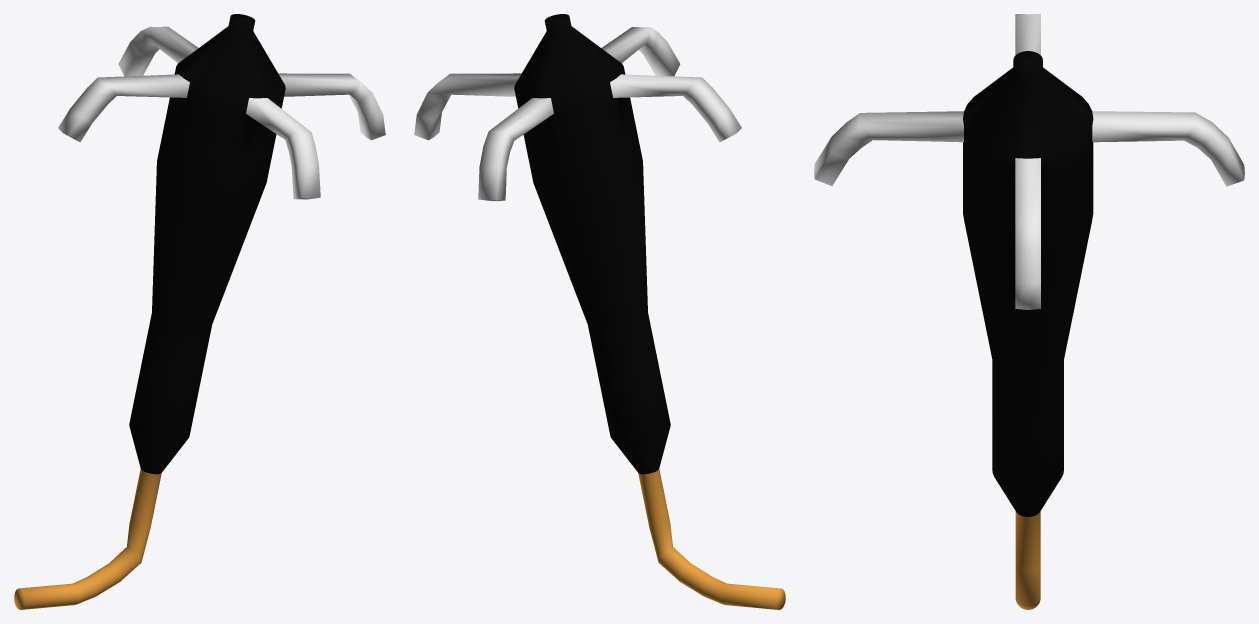
The model's file is grapple.fbx.
3 views of the same model, side by side, from view 1: azimuth 30°, elevation 25°; view 2: azimuth 150°, elevation 25°; view 3: azimuth 270°, elevation 25° (orthographic). The views are drawn at different scales.
Parts seen in each view (by area): view 1: Cylinder; view 2: Cylinder; view 3: Cylinder.
Boxes of the visible parts, <box> form: Cylinder: <box>14,14,385,609</box>; Cylinder: <box>414,14,785,609</box>; Cylinder: <box>814,14,1244,609</box>.
Size of the model in its own units: 241 by 348 by 213.
